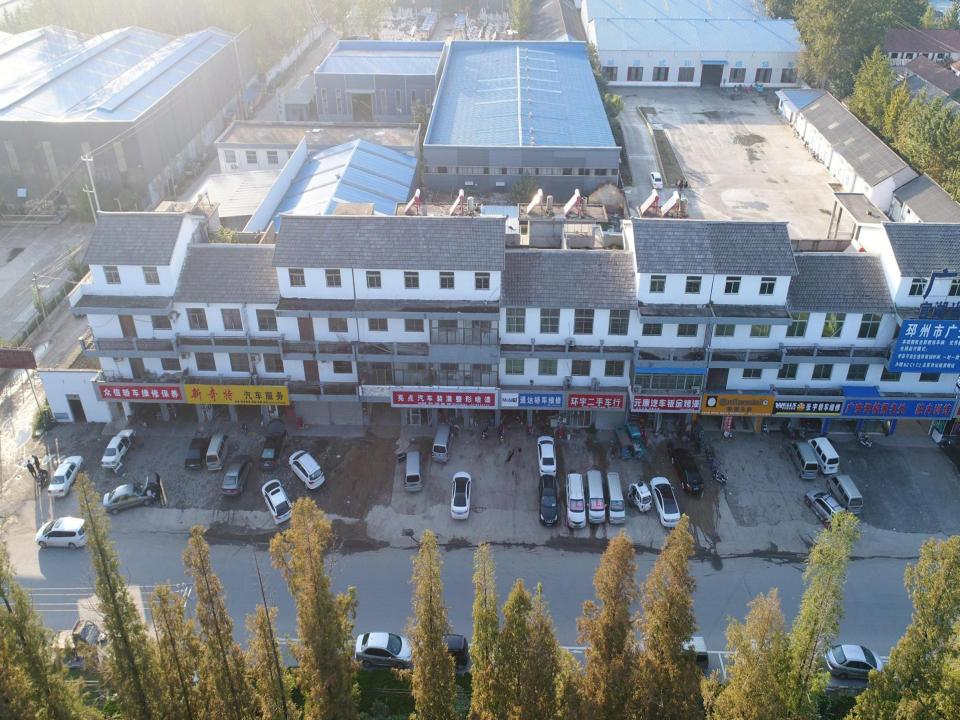car: (816, 634, 886, 686), (351, 618, 413, 666), (102, 471, 162, 513), (418, 622, 468, 672), (649, 476, 686, 533), (806, 487, 849, 534), (100, 423, 137, 472), (34, 516, 90, 548), (46, 454, 85, 498), (286, 451, 326, 489), (181, 423, 214, 469), (260, 418, 288, 472), (262, 480, 295, 524), (222, 450, 253, 496), (534, 475, 559, 532), (674, 446, 702, 495), (448, 470, 474, 522), (535, 434, 558, 474), (648, 170, 662, 187)
truck: (46, 616, 106, 668)
van: (653, 623, 715, 673), (825, 470, 869, 518), (786, 436, 822, 483), (602, 468, 628, 529), (564, 471, 590, 531), (809, 431, 843, 476), (429, 419, 459, 465), (396, 447, 424, 493), (584, 466, 604, 526), (204, 430, 232, 471)
